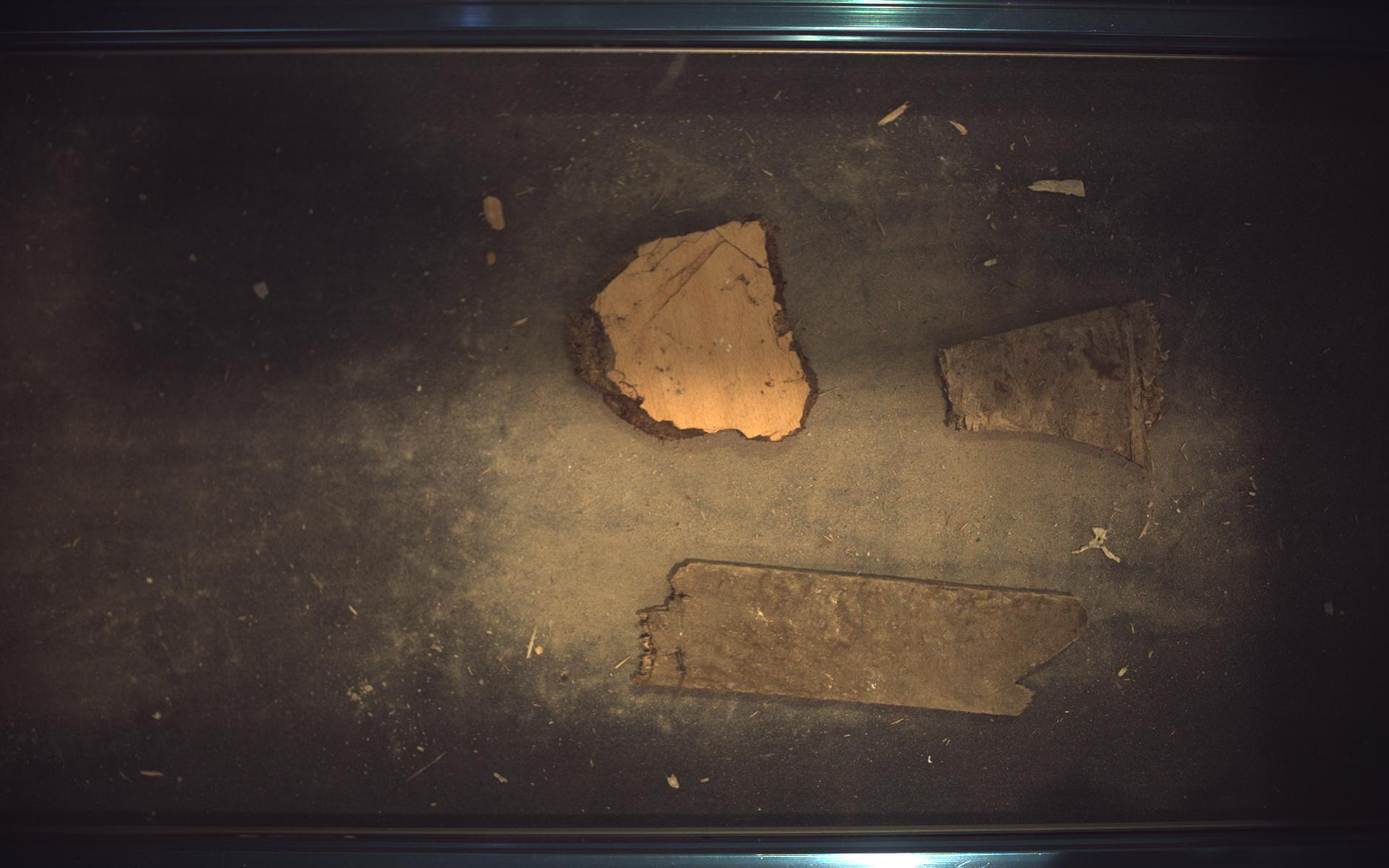wood: (634, 561, 1089, 717), (567, 218, 818, 441), (940, 300, 1168, 469)
